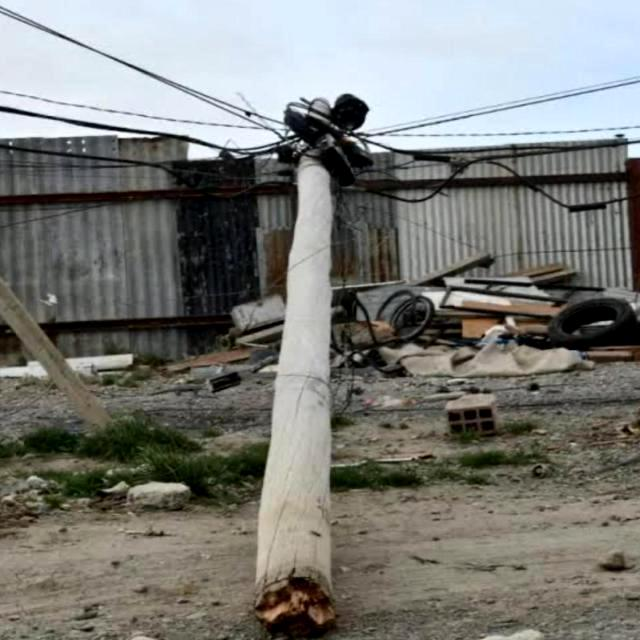Broken Pole: (247, 90, 386, 638)
